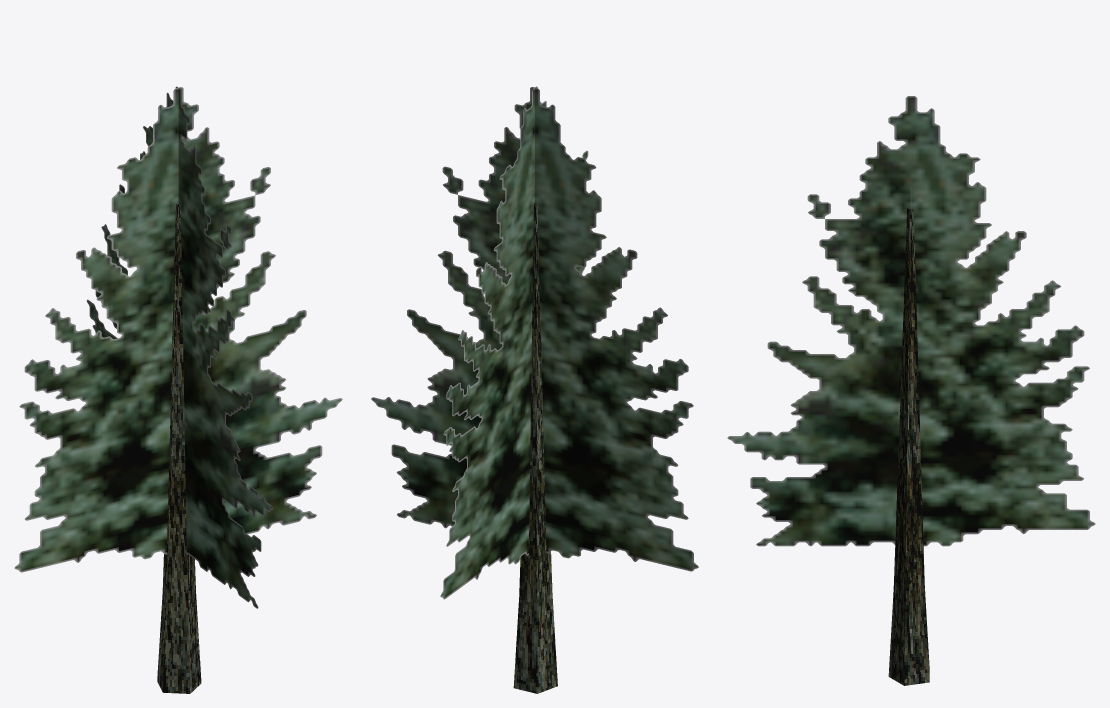
File: Tree17.fbx
3 renders of one model, left to right at view 1: azimuth 30°, elevation 25°; view 2: azimuth 150°, elevation 25°; view 3: azimuth 270°, elevation 25°, orthographic. The views are drawn at different scales.
Visible parts, largest first — view 1: Lomb, T_rzs; view 2: Lomb, T_rzs; view 3: Lomb, T_rzs.
Boxes of the visible parts, x1=… form: Lomb: x1=14, y1=86, x2=342, y2=608; T_rzs: x1=157, y1=204, x2=201, y2=693; Lomb: x1=371, y1=86, x2=698, y2=599; T_rzs: x1=513, y1=203, x2=557, y2=693; Lomb: x1=727, y1=96, x2=1095, y2=546; T_rzs: x1=888, y1=208, x2=929, y2=685.
Bounding box in the file's own units: 27.58 × 48.29 × 27.58.
